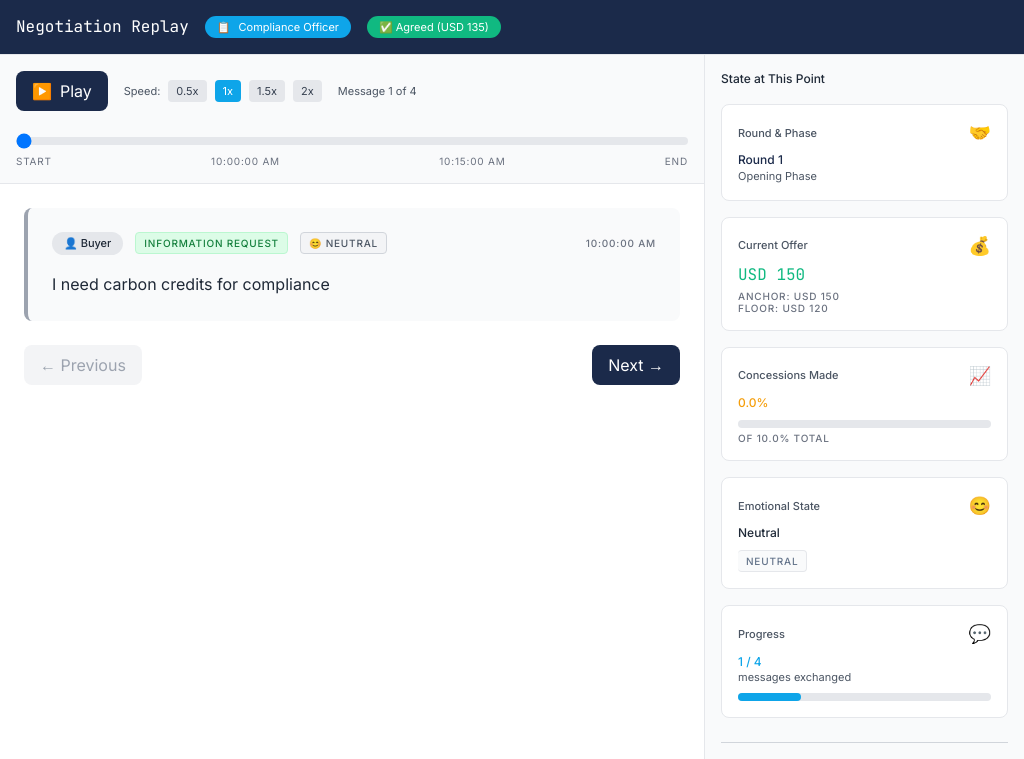
ReplayViewer › Message Timeline Display › displays agent messages with correct styling
Navigate to second message (agent message)
Click the button "Next →" at (636,365), box [592,345,680,385]
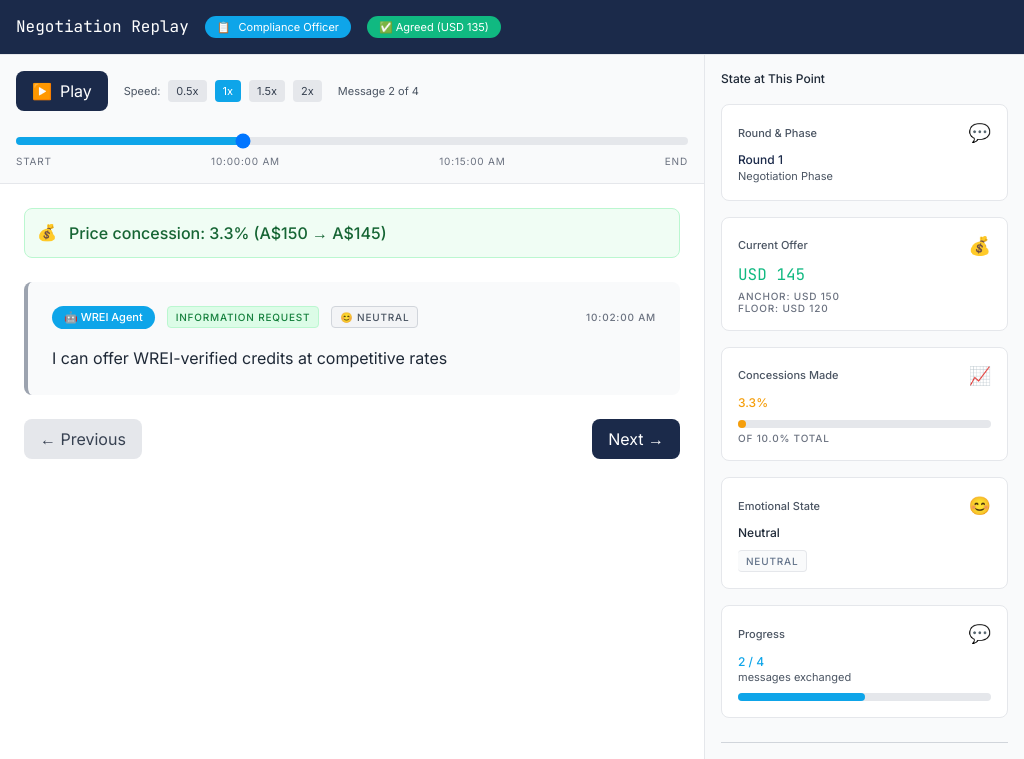
expect the text "I can offer WREI-verified credits at competitive rates" is shown: met, box [52,348,447,368]
expect the text "🤖 WREI Agent" is shown: met, box [52,306,155,329]
